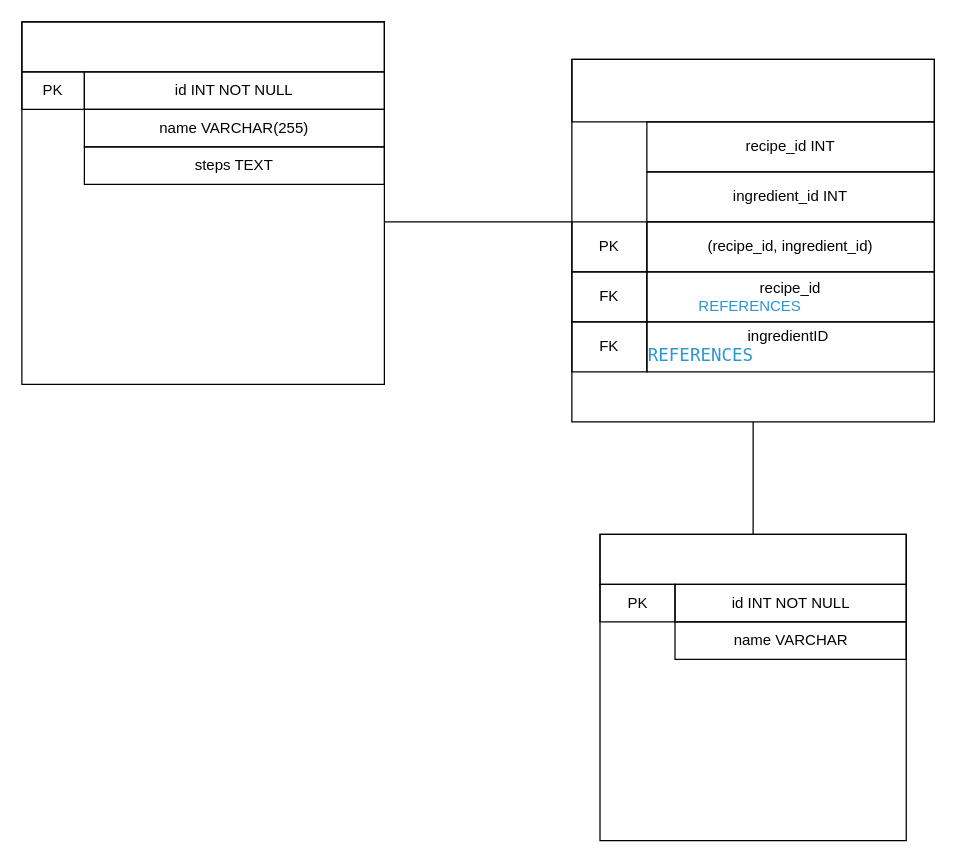
Image size: 956x863. Some labels were removed from this diagram. The shapes that lost their labels are listed below. From the top down, each one's box as (x1, y1, x2, y2) in pixels, then its label:
(21, 21, 384, 72): Recipes
(571, 58, 934, 122): RecipeIngredient
(599, 533, 906, 584): Ingredient
